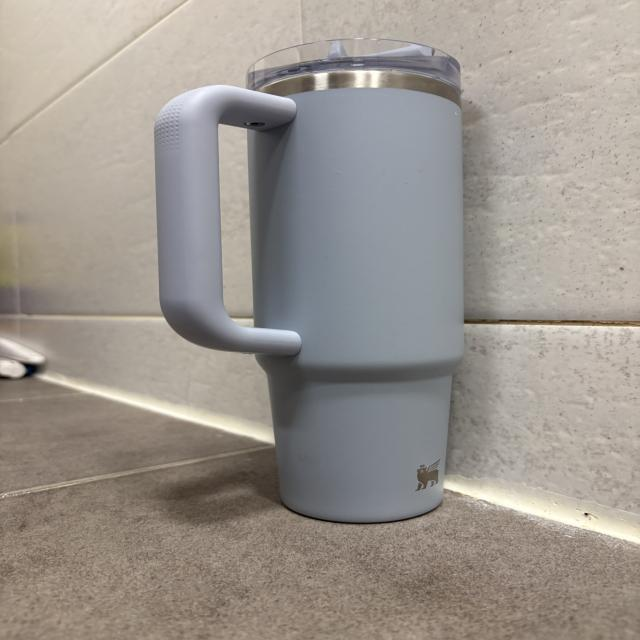waterbottle: (153, 37, 464, 522)
